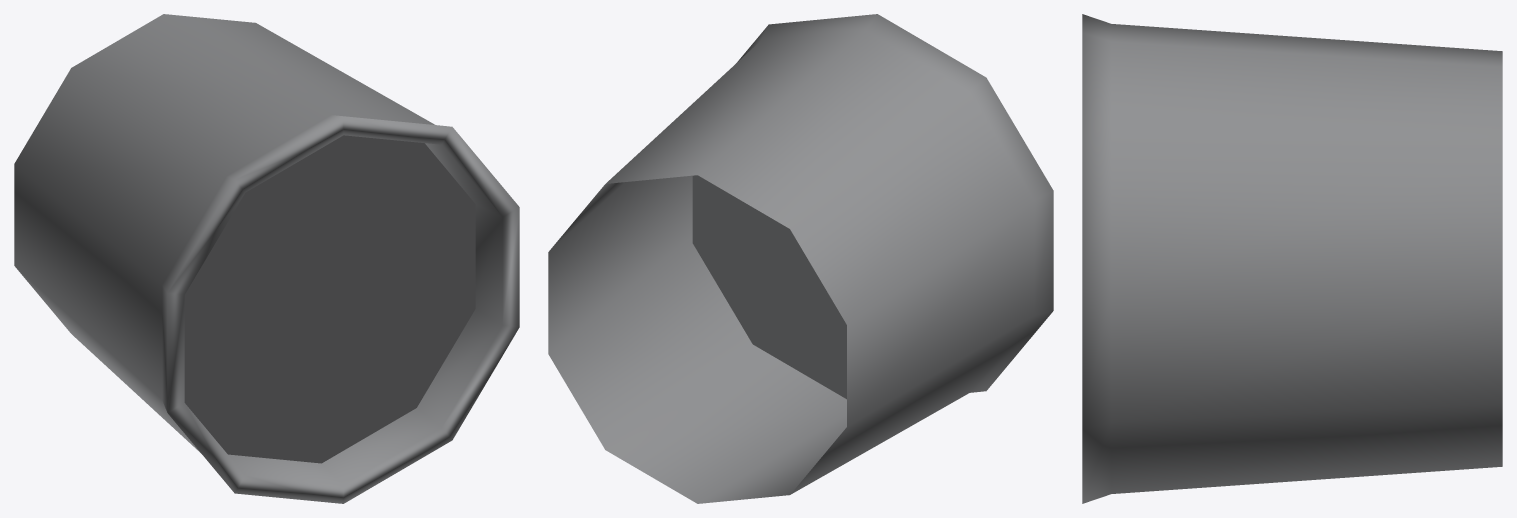
3 views of the same model, side by side, from view 1: azimuth 30°, elevation 25°; view 2: azimuth 150°, elevation 25°; view 3: azimuth 270°, elevation 25° (orthographic). The views are drawn at different scales.
Bounding box in the file's own units: 0.4261 × 0.448 × 0.377.
